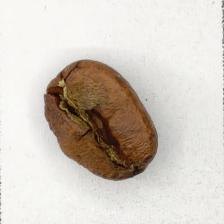NG: (63, 82, 137, 166)
